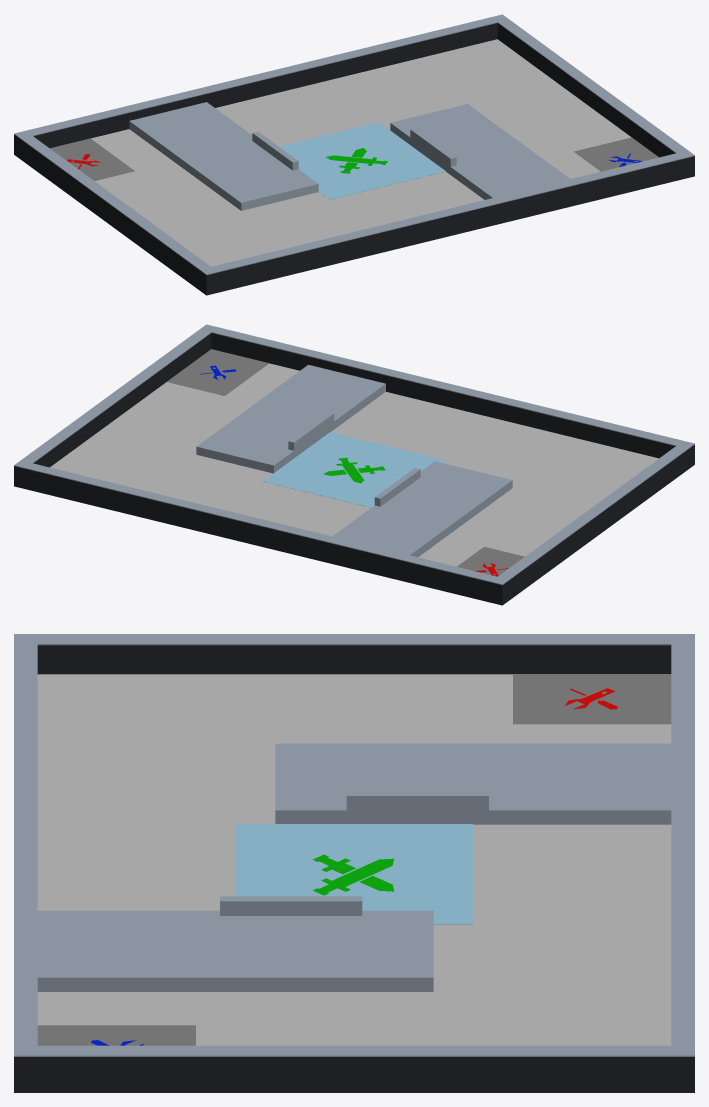
File: rmul_2026.dae
3 renders of one model, top to bottom at view 1: azimuth 30°, elevation 25°; view 2: azimuth 150°, elevation 25°; view 3: azimuth 270°, elevation 25°, orthographic. The views are drawn at different scales.
Parts seen in each view (by area): view 1: RMUL2026; view 2: RMUL2026; view 3: RMUL2026.
Part boxes in pixels (x1,y1,x2,y2): RMUL2026: [14, 14, 694, 295]; RMUL2026: [14, 324, 694, 605]; RMUL2026: [14, 634, 694, 1092].
Size of the model in its own units: 12.6 by 8.6 by 0.52.
